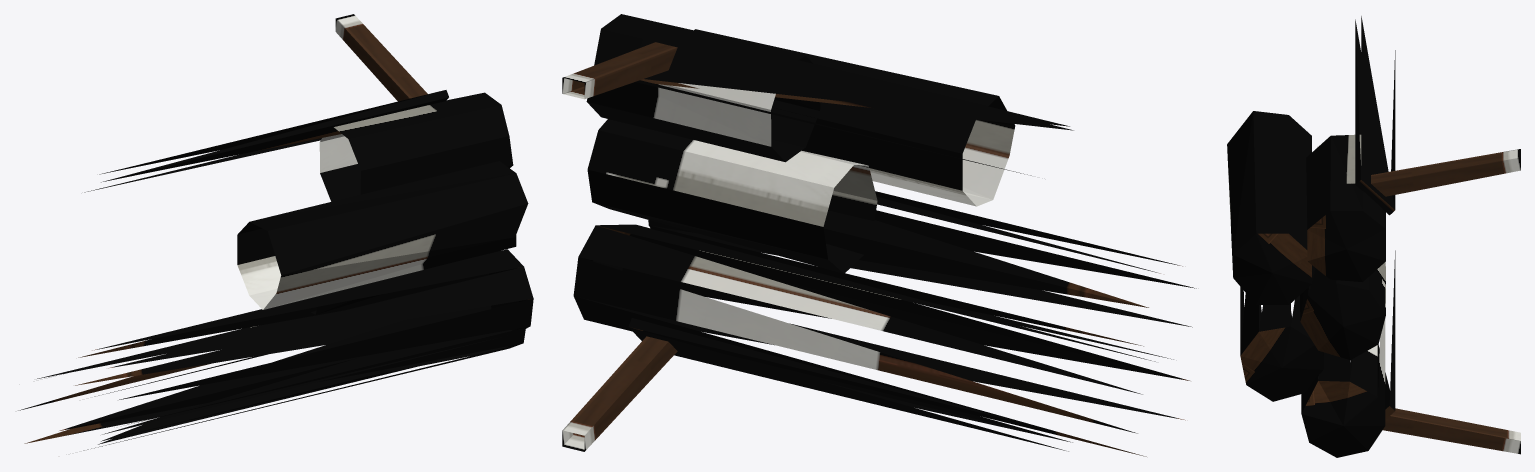
3 renders of one model, left to right at view 1: azimuth 30°, elevation 25°; view 2: azimuth 150°, elevation 25°; view 3: azimuth 270°, elevation 25°, orthographic. The views are drawn at different scales.
Size of the model in its own units: 1.66 by 1.01 by 0.9026.
